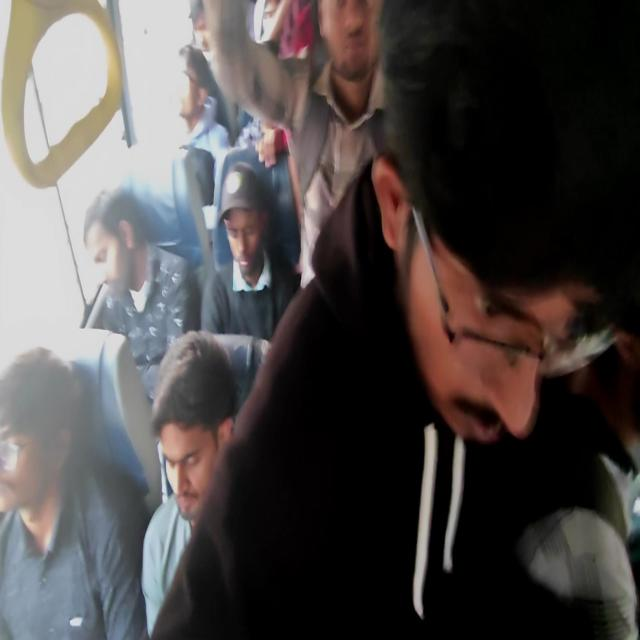person: (151, 1, 638, 638), (194, 0, 389, 289), (0, 345, 150, 638), (141, 329, 239, 637), (82, 185, 200, 401), (199, 150, 301, 342), (175, 43, 231, 206)
